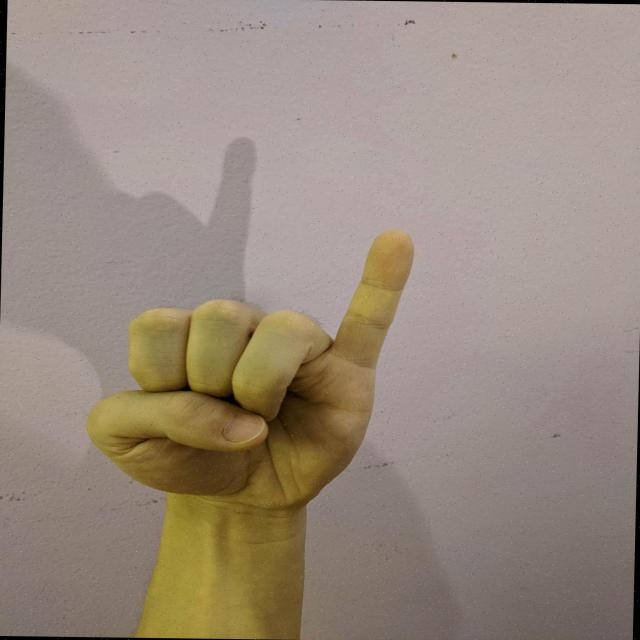I: (77, 220, 420, 513)
